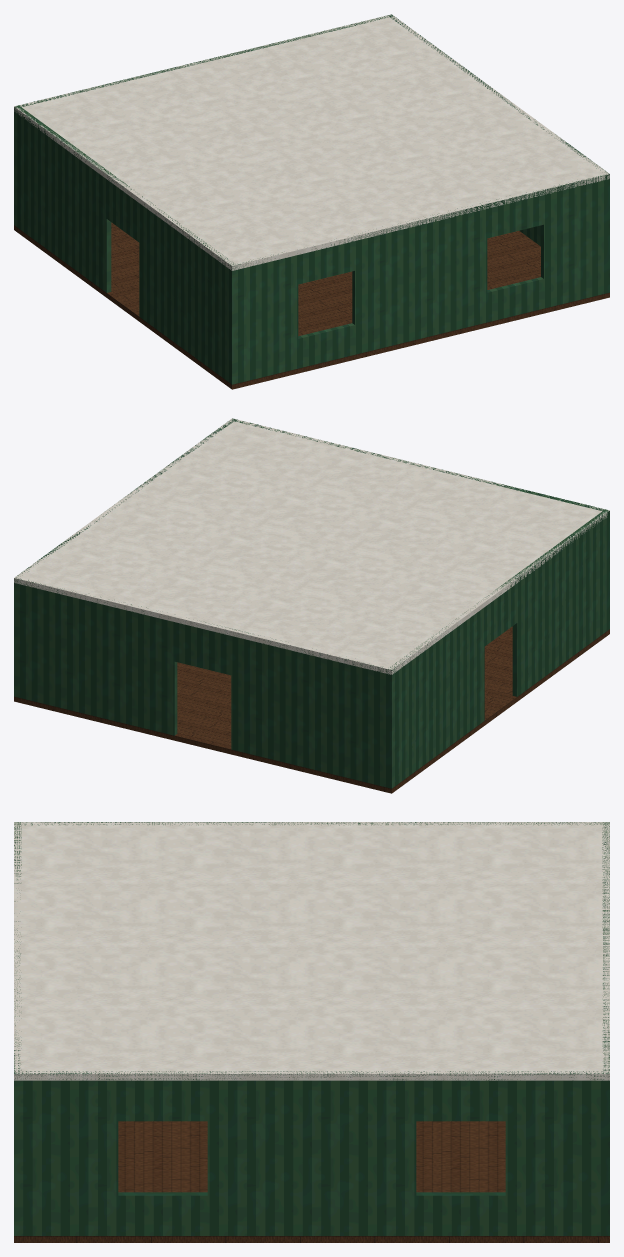
The model's file is room-library.obj.
3 renders of one model, top to bottom at view 1: azimuth 30°, elevation 25°; view 2: azimuth 150°, elevation 25°; view 3: azimuth 270°, elevation 25°, orthographic. The views are drawn at different scales.
Parts seen in each view (by area): view 1: ceiling, wall, floor; view 2: ceiling, wall, floor; view 3: ceiling, wall, floor.
Boxes of the visible parts, <box> form: ceiling: <box>14,14,609,270</box>; wall: <box>14,14,609,384</box>; floor: <box>14,222,609,389</box>; ceiling: <box>14,418,609,674</box>; wall: <box>14,418,609,788</box>; floor: <box>14,626,609,793</box>; ceiling: <box>14,822,609,1080</box>; wall: <box>14,822,609,1235</box>; floor: <box>14,1121,609,1242</box>.
Size of the model in its own units: 16 by 5 by 16.
Materials: 3 (3 with a texture image).
